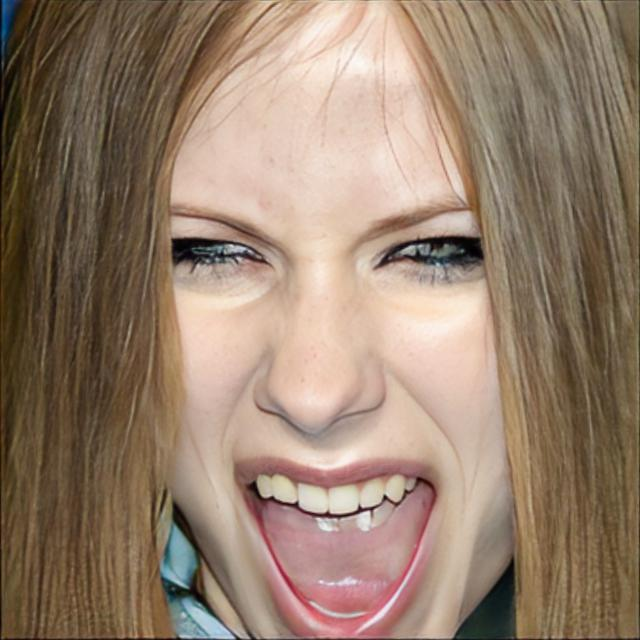anger: (148, 41, 516, 640)
